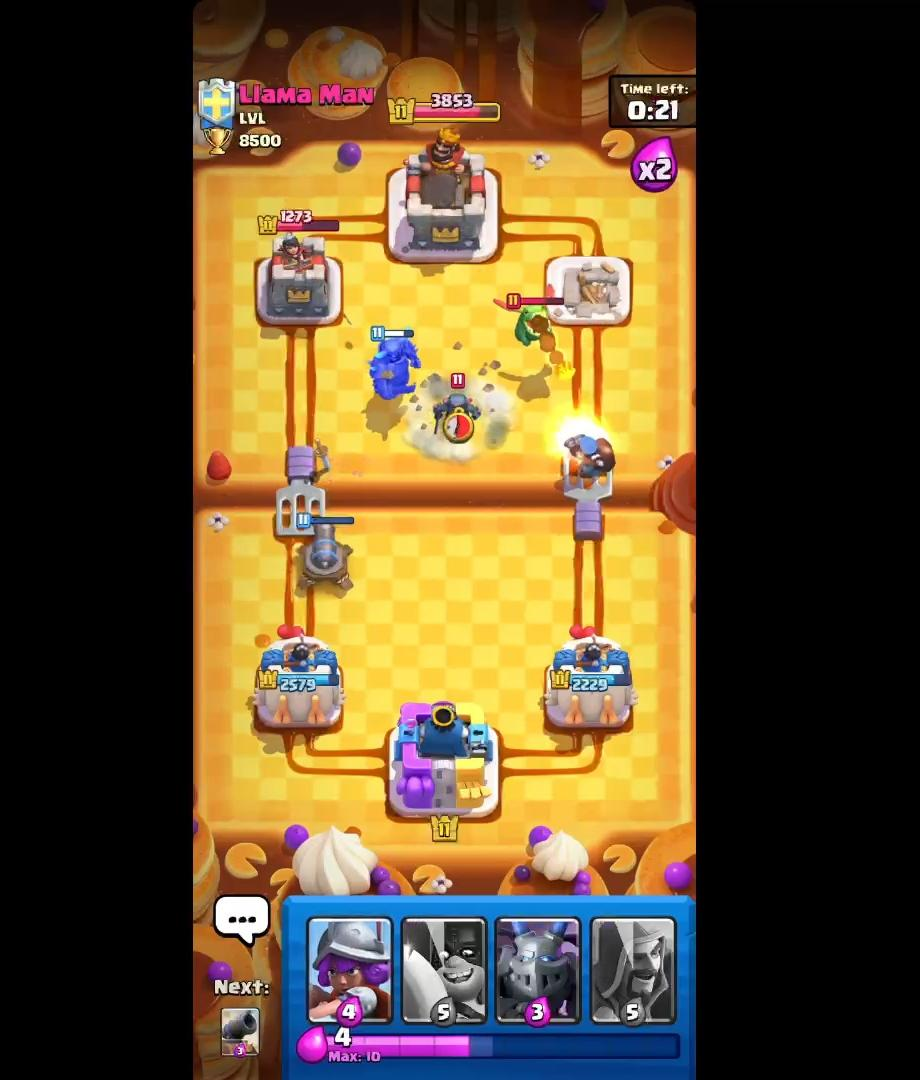Baby Dragon: (493, 288, 568, 358)
